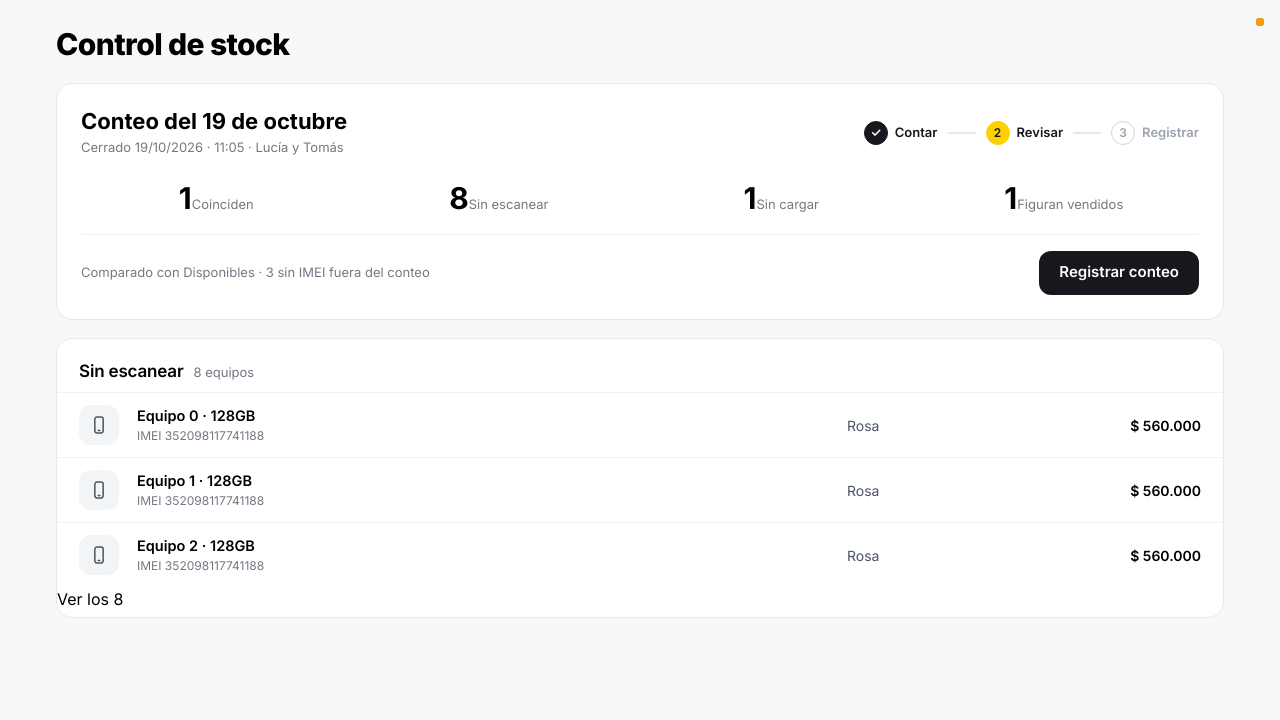
Test: control de stock #318 › expande todos los equipos y vuelve a la vista compacta al cambiar de grupo (móvil: false)
Expected: the text "Equipo 2 · 128GB" is shown, [137,537,255,554]
Expected: the text "Equipo 3 · 128GB" is not shown
Click the button "Ver los 8".
click(90, 599)  # box [57,587,123,611]
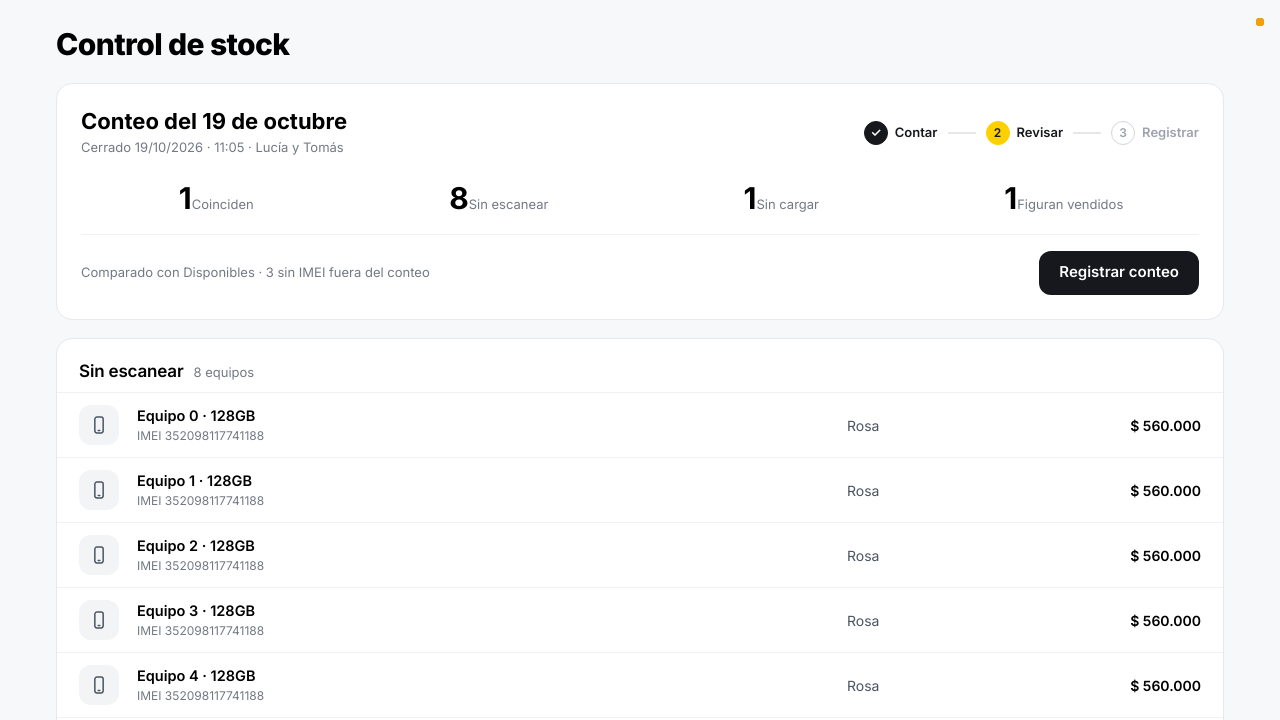
Click the button "Coinciden 1".
click(216, 198)  # box [81,180,352,216]
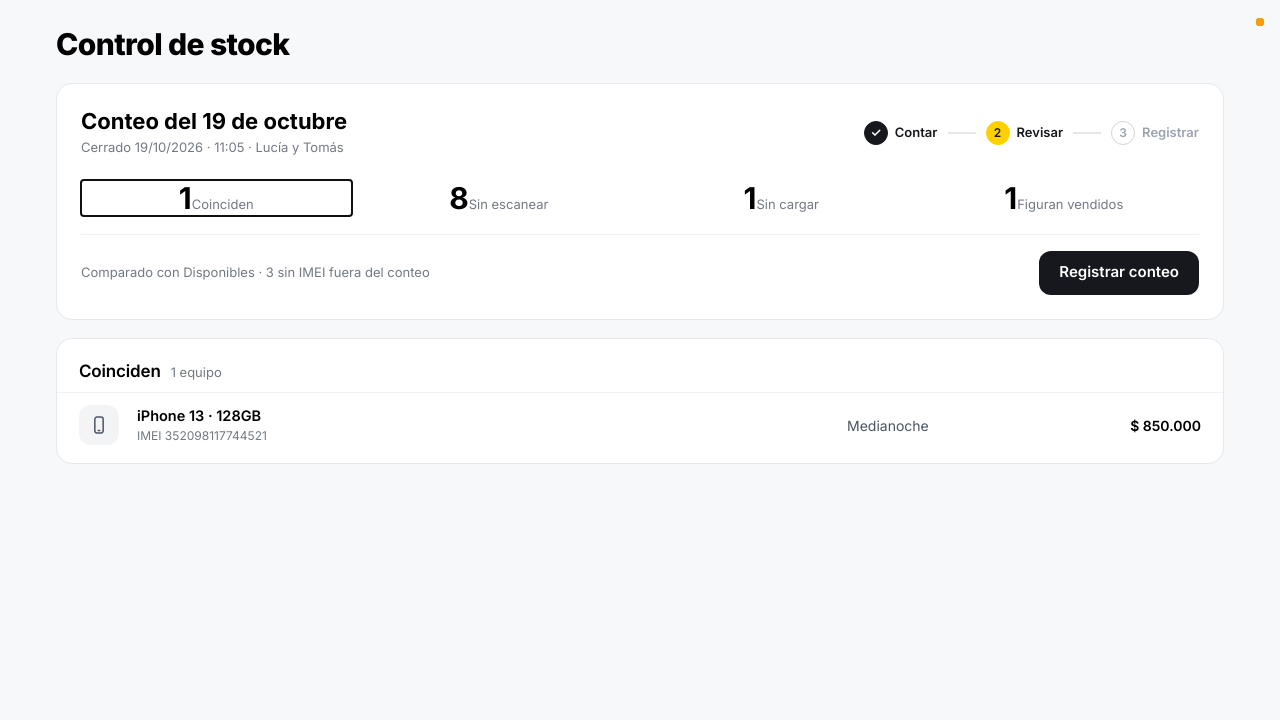
Click the button "Sin escanear 8".
click(499, 198)  # box [364,180,634,216]
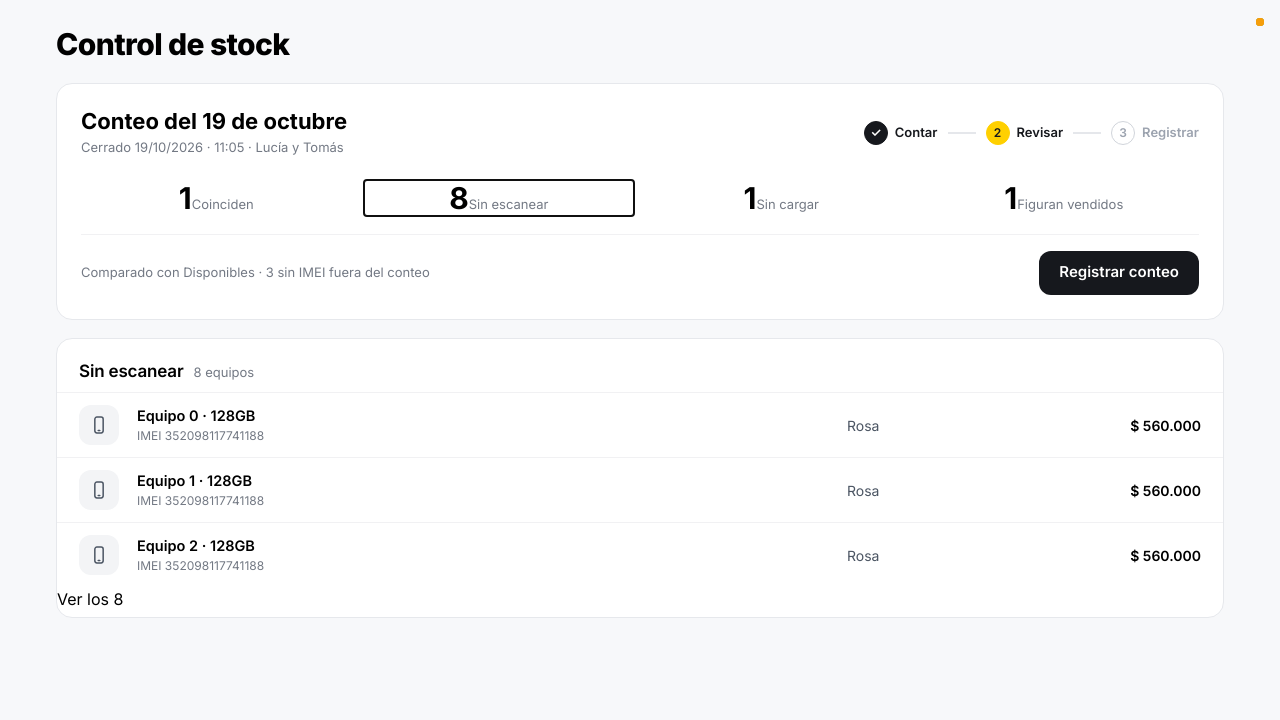
Expected: the number of list items is 3, [864,121,938,145]; [948,121,1063,145]; [1111,121,1199,145]
Expected: the button "Ver los 8" is collapsed, [57,587,123,611]
Expected: the element "Sin escanear" shows "IMEI 352098117741188", [137,428,264,443]
